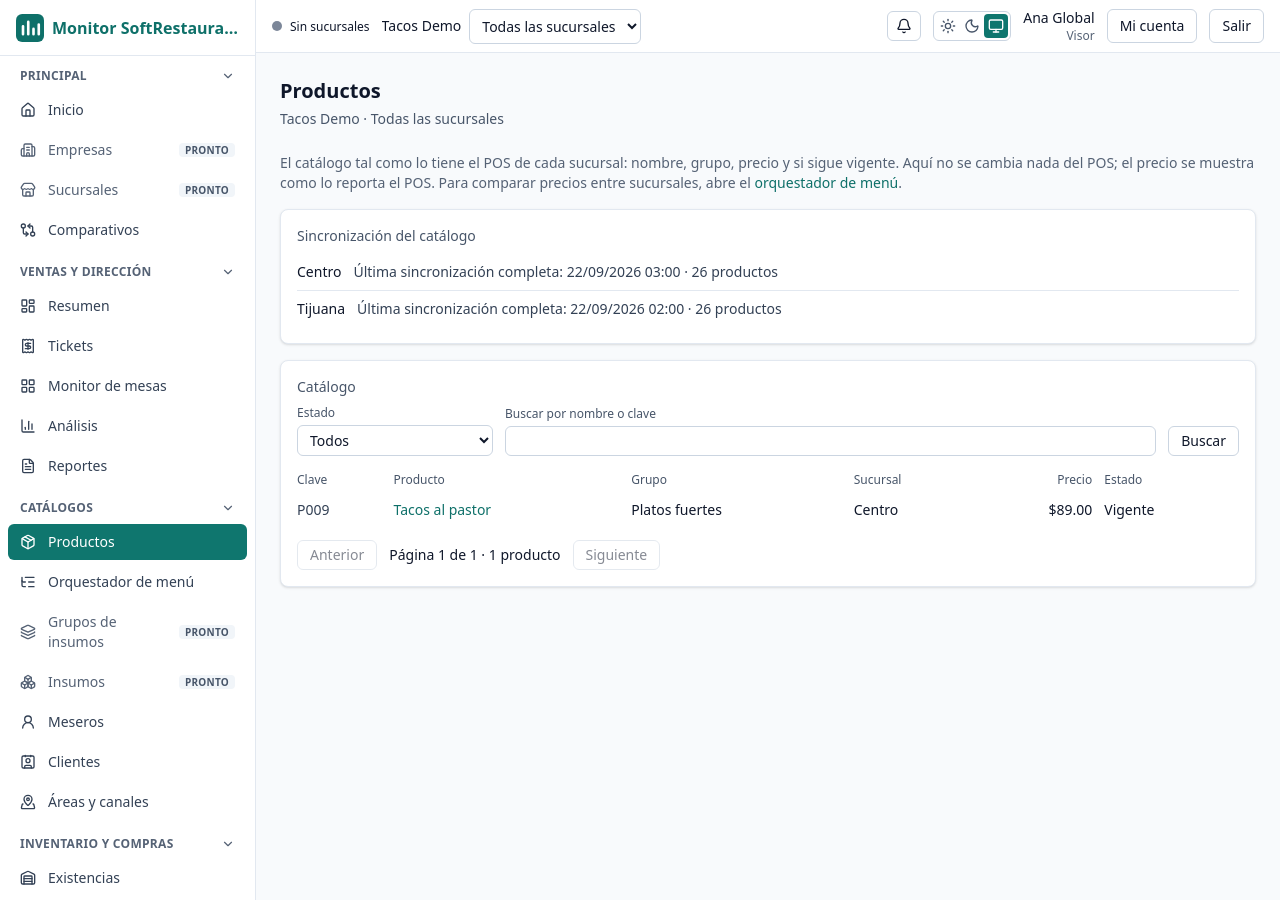
Test: Productos › lista con precio y estado; la ficha de un visor no trae formulario
expect the text "$89.00" is shown: met, box [983,492,1104,528]
expect the text "Vigente" is shown: met, box [1104,492,1239,528]
Click the button "Tacos al pastor": x=442, y=510 [394,500,491,520]
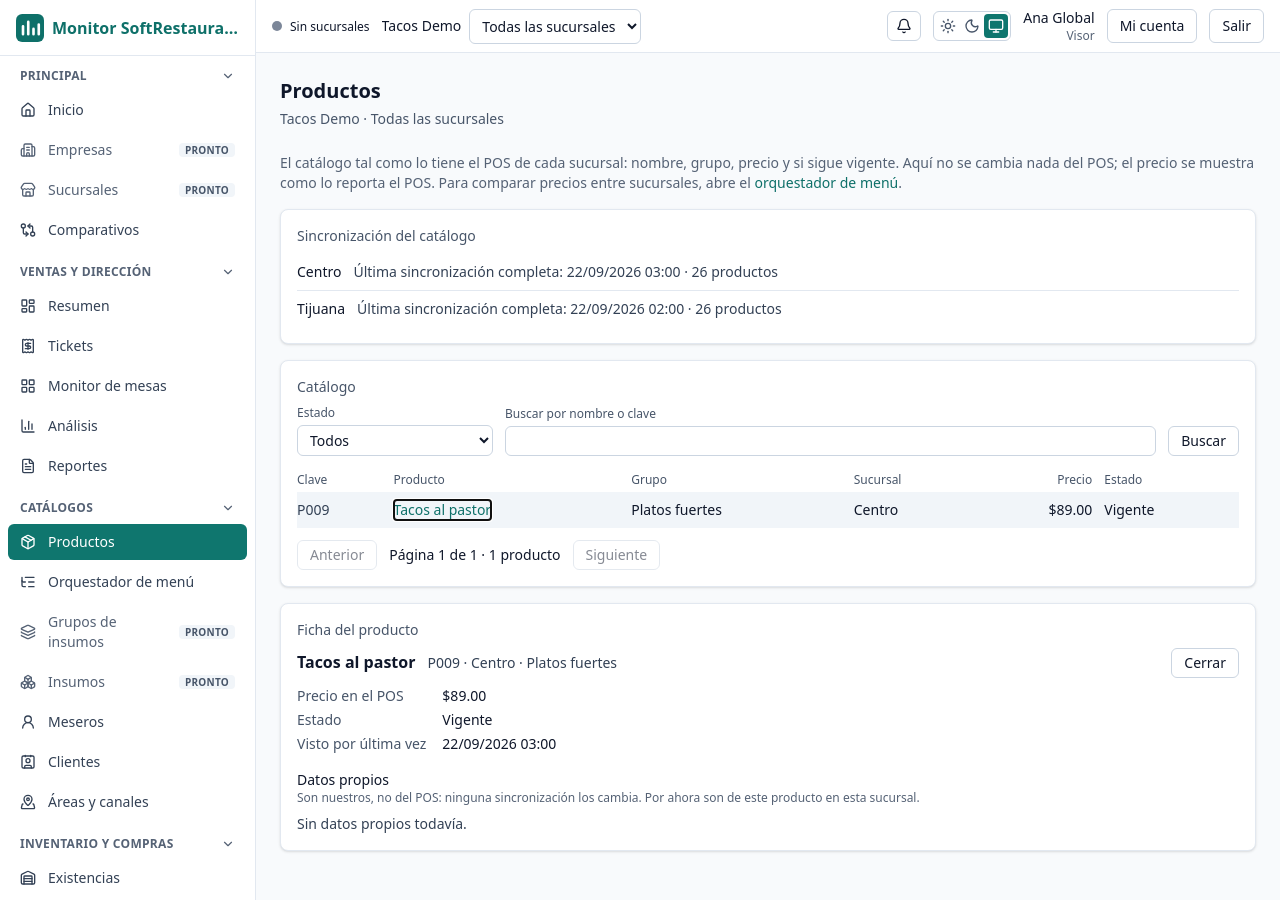
expect the text "Sin datos propios todavía." is shown: met, box [297,814,467,833]
